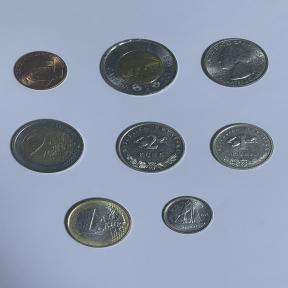1 Euro: (61, 194, 134, 252)
2 Euro: (5, 116, 90, 178)
Canda-10cent-: (156, 194, 218, 239)
Canda-2Dollar-: (91, 34, 187, 102)
Croatia-2Kune-: (112, 116, 190, 180)
US-1cent-: (8, 47, 70, 94)
US-25cent-: (198, 34, 272, 92)
